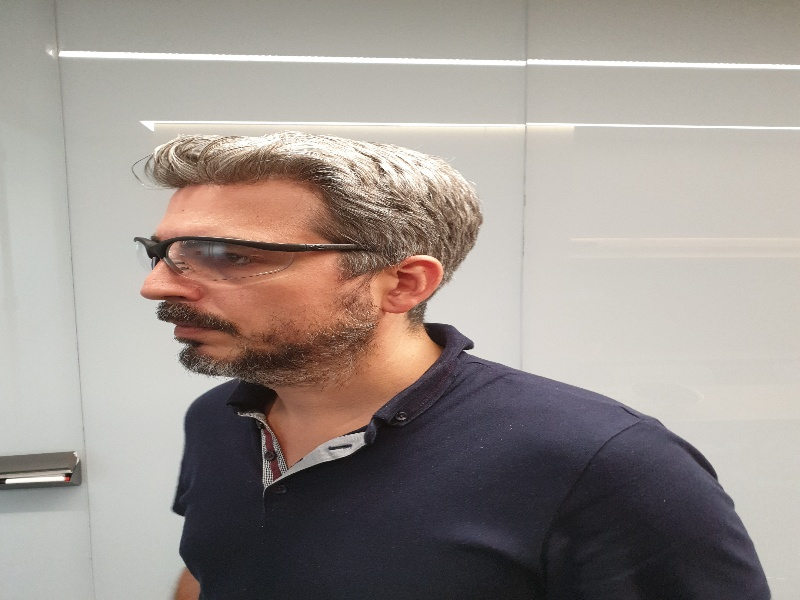Gozluk: (132, 234, 372, 281)
